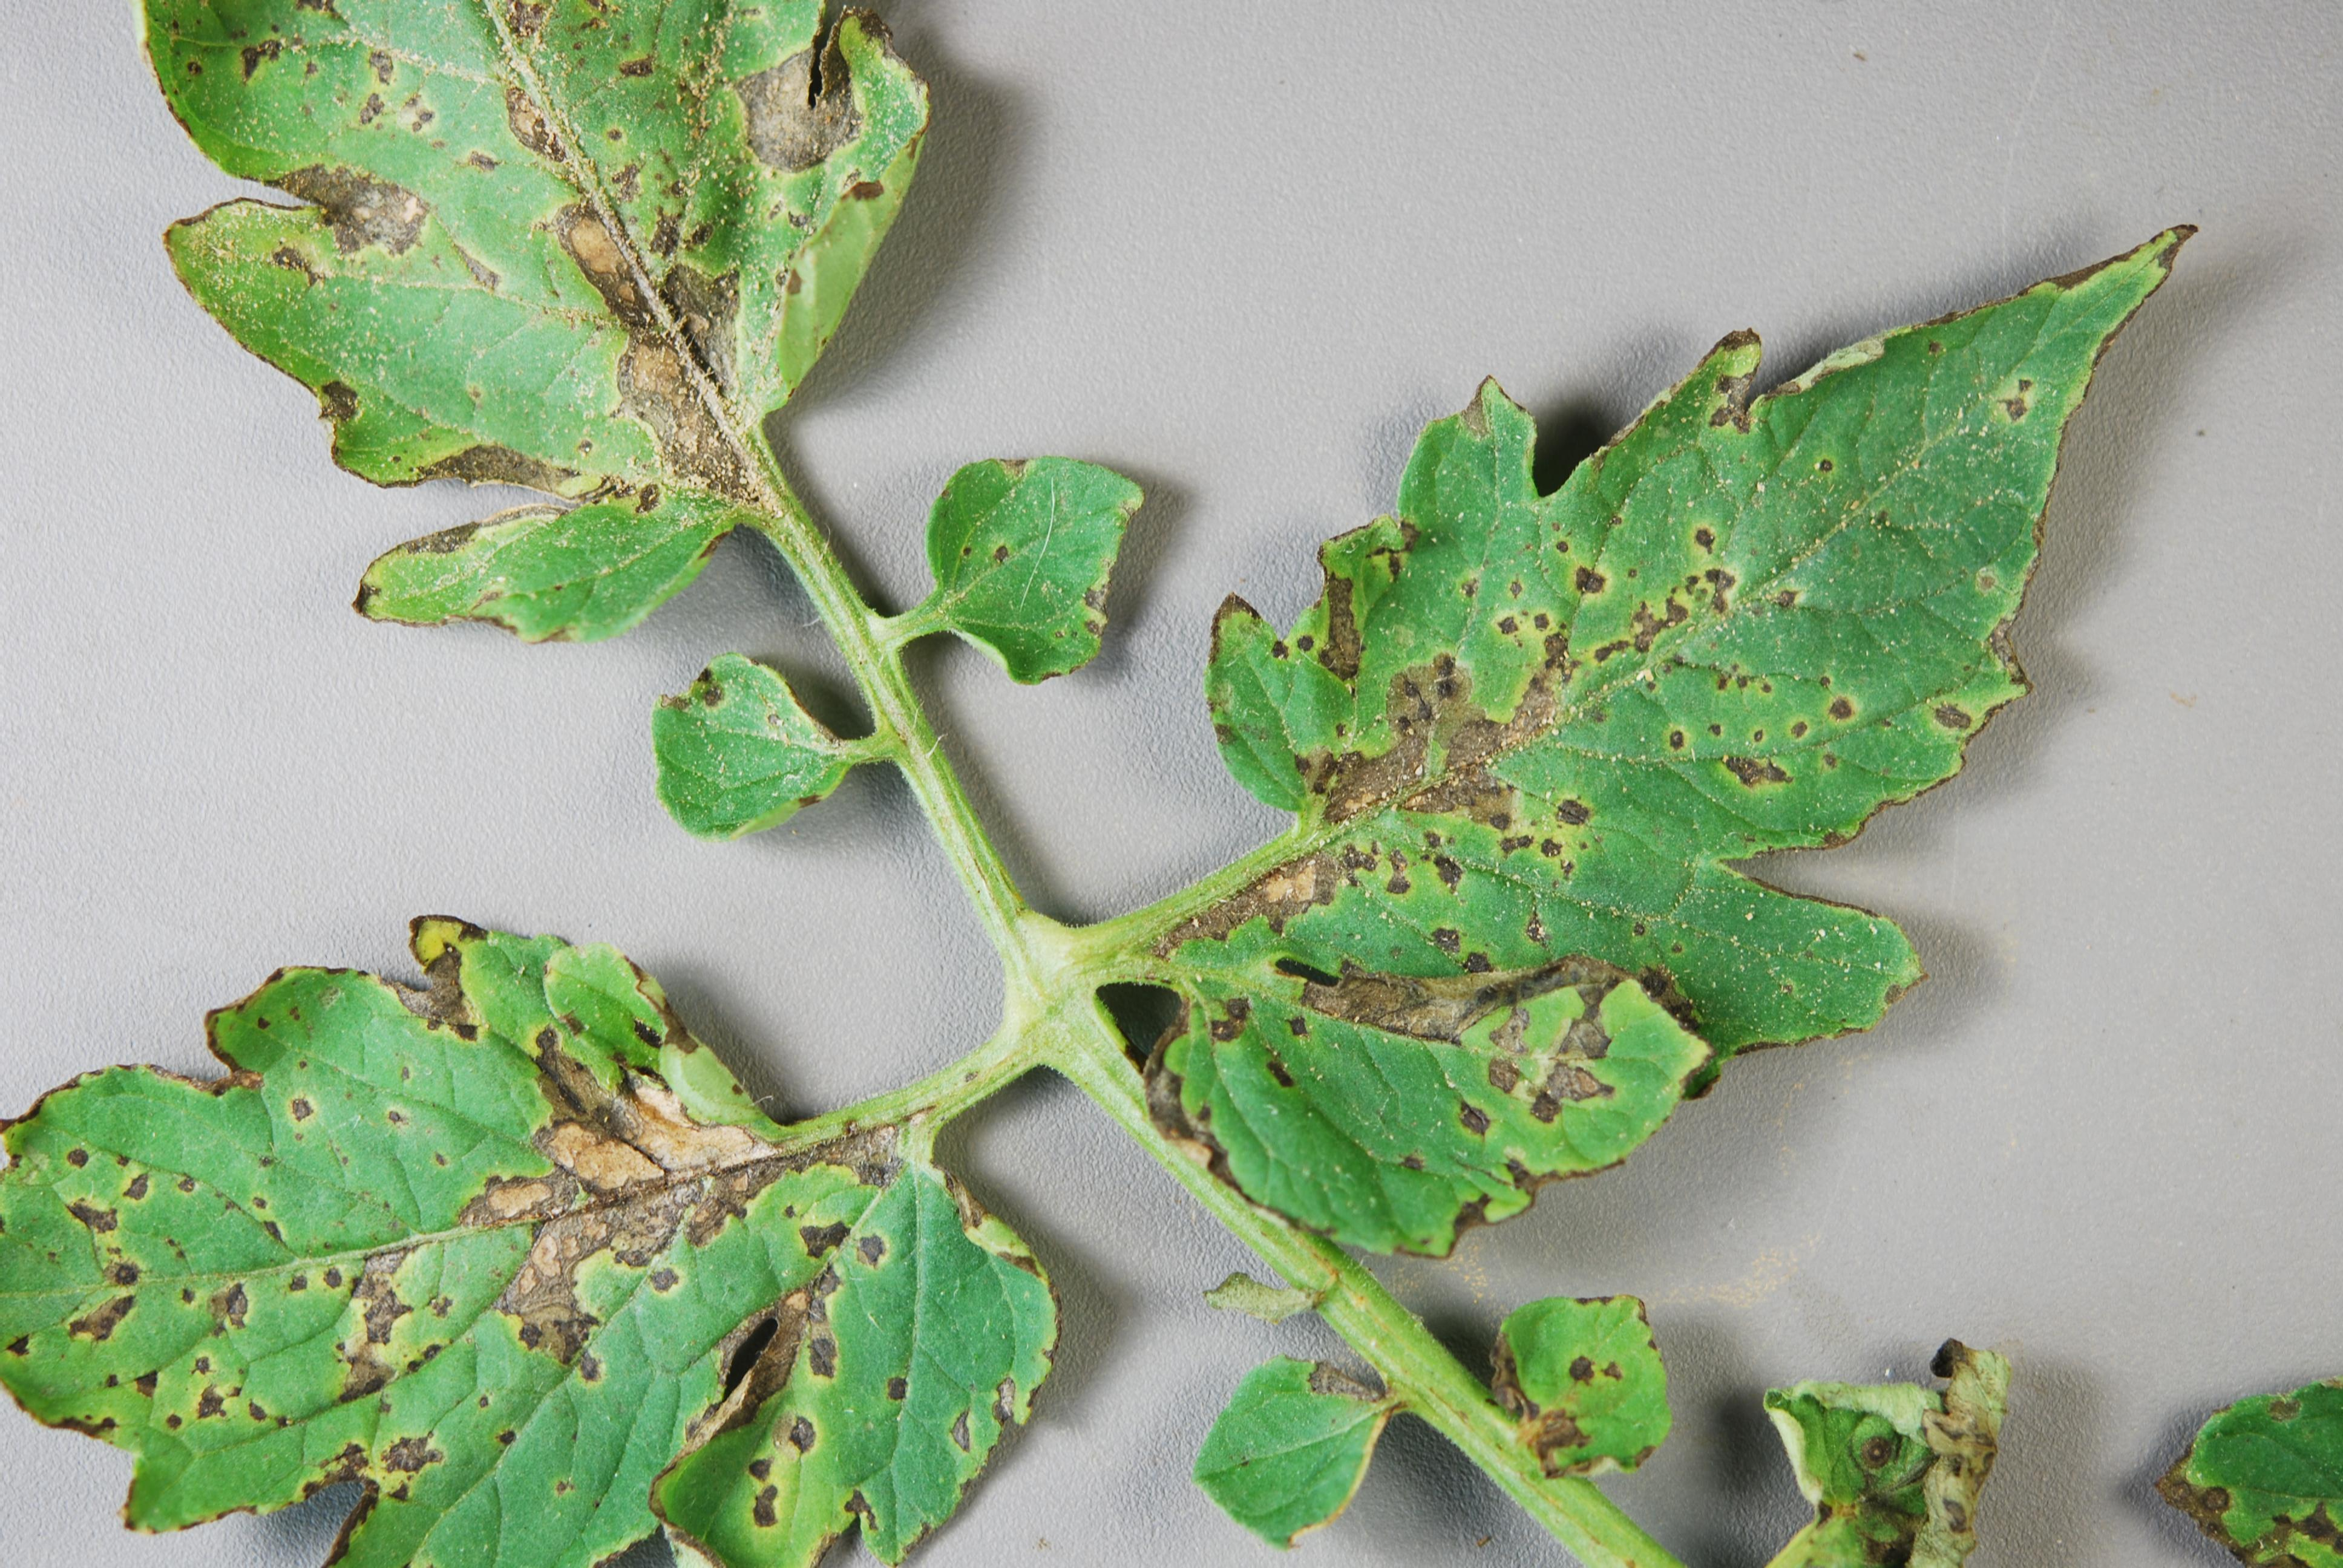Tomato Septoria leaf spot: (1134, 192, 2184, 1078), (0, 880, 1095, 1564), (115, 0, 959, 798), (1132, 908, 1746, 1262), (884, 409, 1218, 681)
